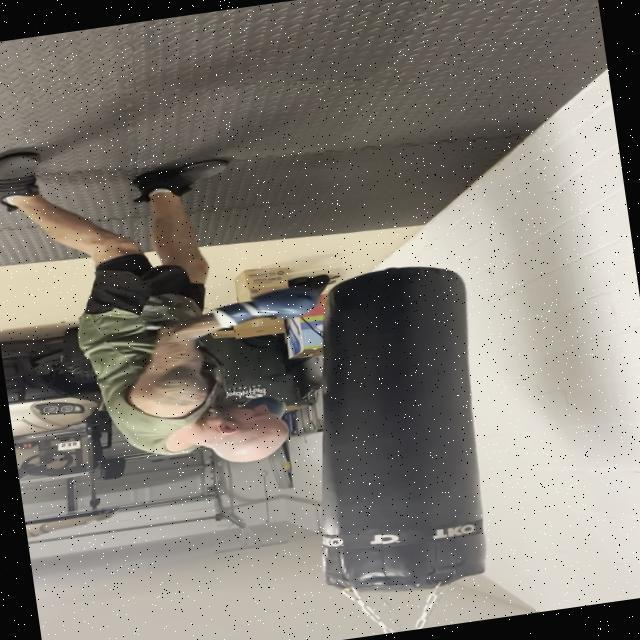bag: (294, 251, 530, 606)
uppercut: (73, 269, 352, 492)
